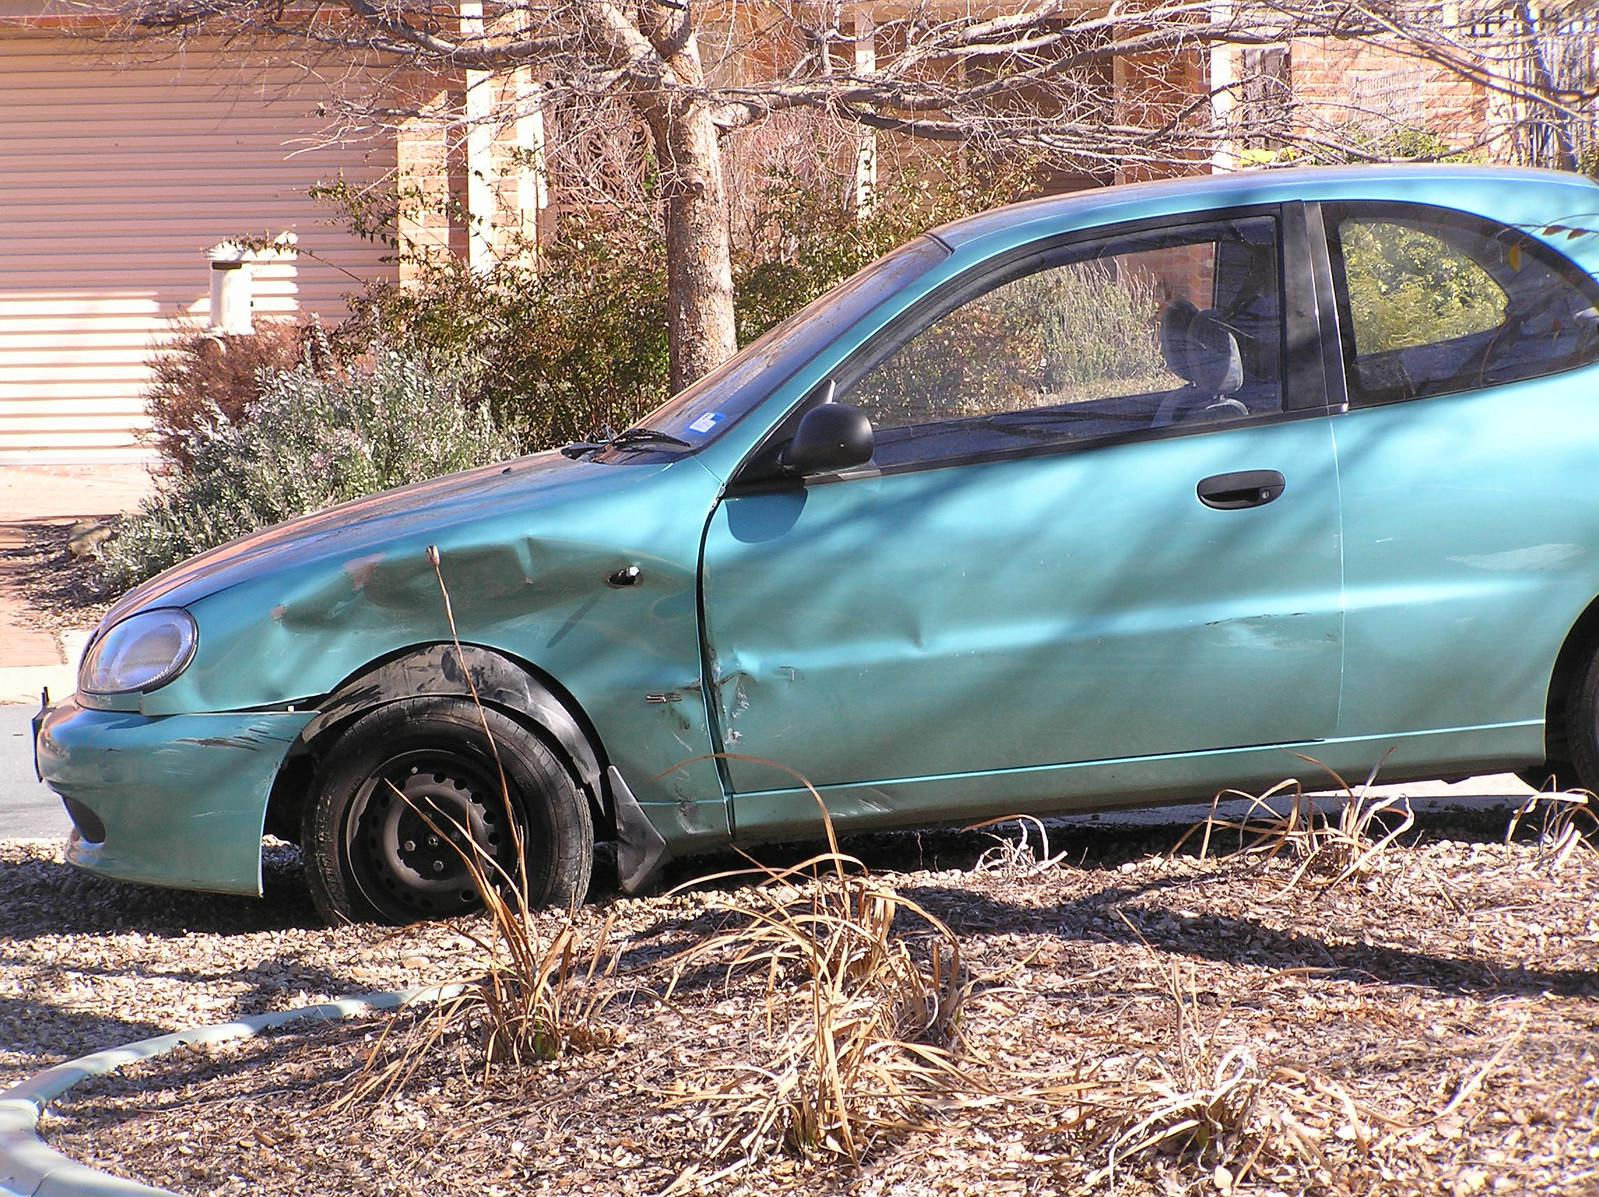doorouter-dent: (712, 487, 1336, 803)
fender-dent: (175, 493, 710, 741)
front-bumper-dent: (58, 727, 290, 890)
